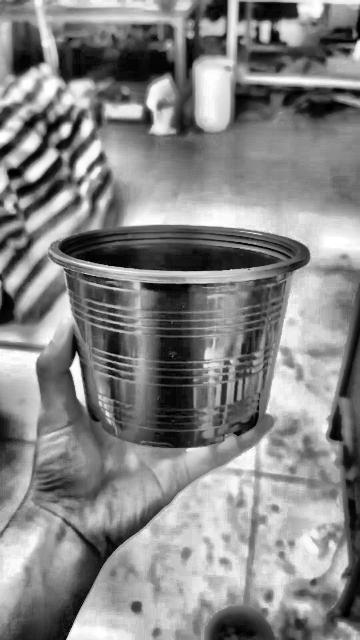pot: (49, 226, 309, 449)
